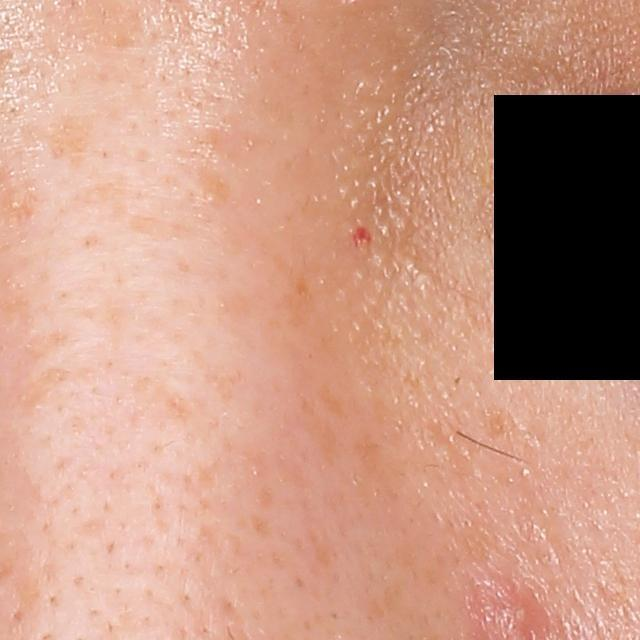melasma: (20, 113, 97, 175), (179, 159, 236, 204)
